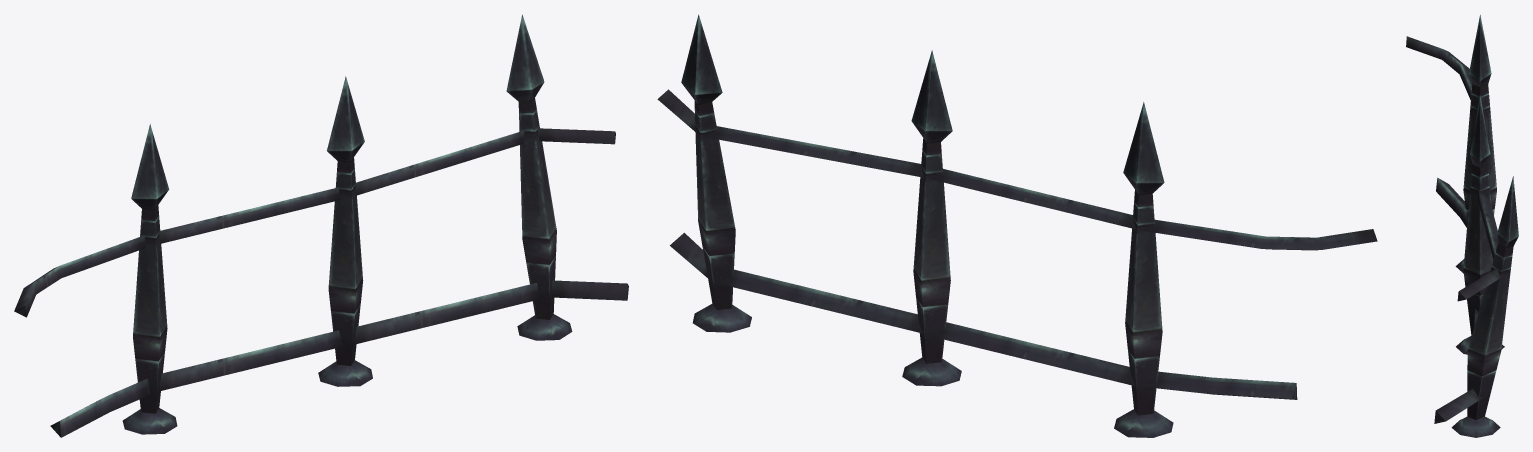
Rendered from common_underground_langan_po.FBX.
3 views of the same model, side by side, from view 1: azimuth 30°, elevation 25°; view 2: azimuth 150°, elevation 25°; view 3: azimuth 270°, elevation 25° (orthographic). The views are drawn at different scales.
Parts seen in each view (by area): view 1: common_underground_langan_po; view 2: common_underground_langan_po; view 3: common_underground_langan_po.
Part boxes in pixels (box(x1,y1,x2,y2)): common_underground_langan_po: box(14, 14, 628, 437); common_underground_langan_po: box(657, 14, 1377, 437); common_underground_langan_po: box(1406, 15, 1518, 437).
Size of the model in its own units: 4.62 by 2.08 by 0.8455.
